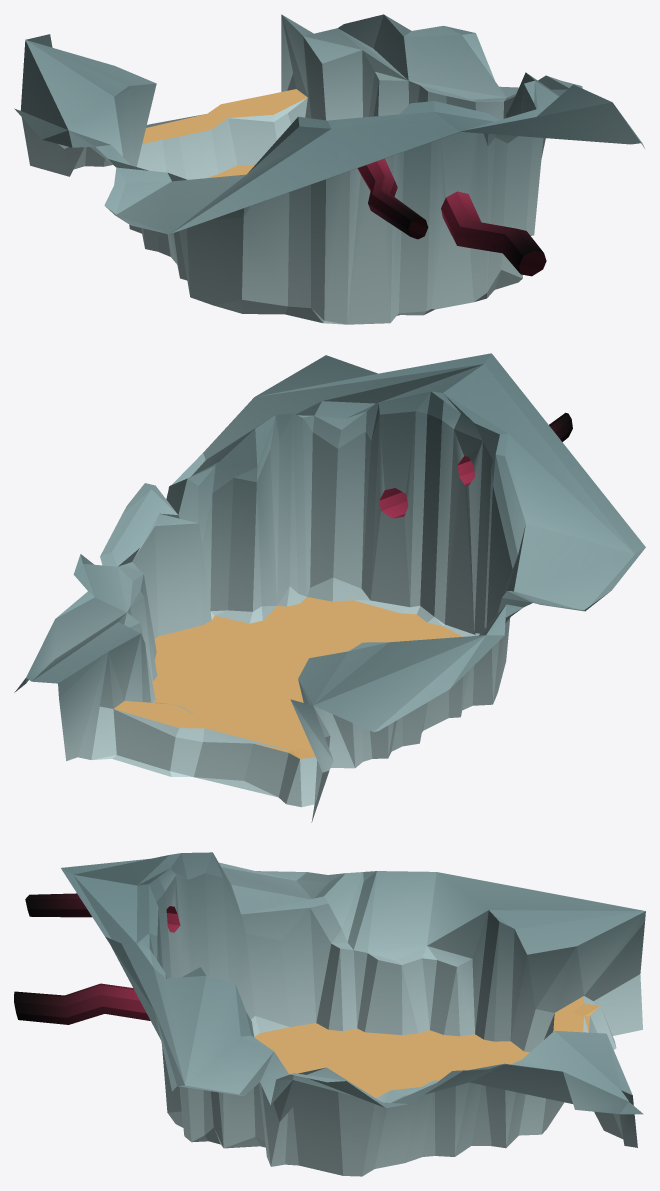
The model's file is MOD_Level5_Versie1.fbx.
3 renders of one model, top to bottom at view 1: azimuth 30°, elevation 25°; view 2: azimuth 150°, elevation 25°; view 3: azimuth 270°, elevation 25°, orthographic. The views are drawn at different scales.
Parts seen in each view (by area): view 1: MOD_Level6, MOD_Level5_Floor; view 2: MOD_Level6, MOD_Level5_Floor; view 3: MOD_Level6, MOD_Level5_Floor.
Boxes of the visible parts, box(x1,y1,x2,y2) form: MOD_Level6: box(14, 14, 644, 324); MOD_Level5_Floor: box(142, 89, 307, 178); MOD_Level6: box(14, 353, 645, 822); MOD_Level5_Floor: box(114, 597, 462, 758); MOD_Level6: box(14, 852, 645, 1176); MOD_Level5_Floor: box(254, 996, 599, 1097).
Size of the model in its own units: 10.53 by 5.04 by 13.12.
